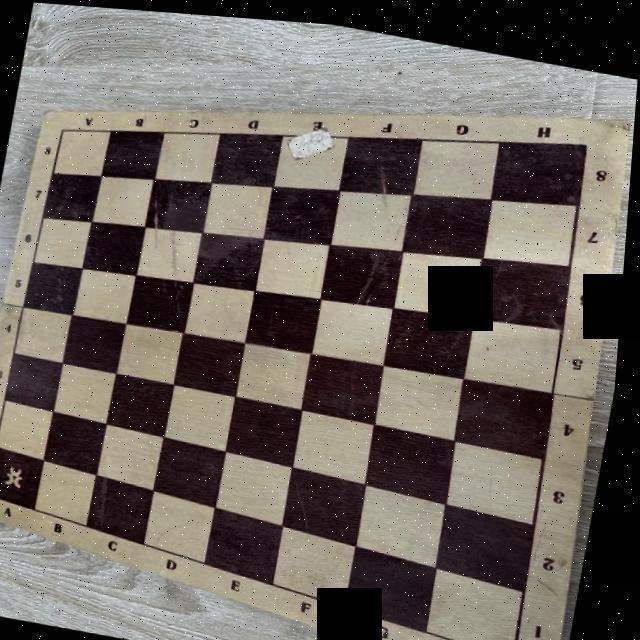chess-table-corners: (572, 124, 600, 144), (54, 123, 69, 134), (506, 638, 534, 640), (0, 486, 1, 500)
